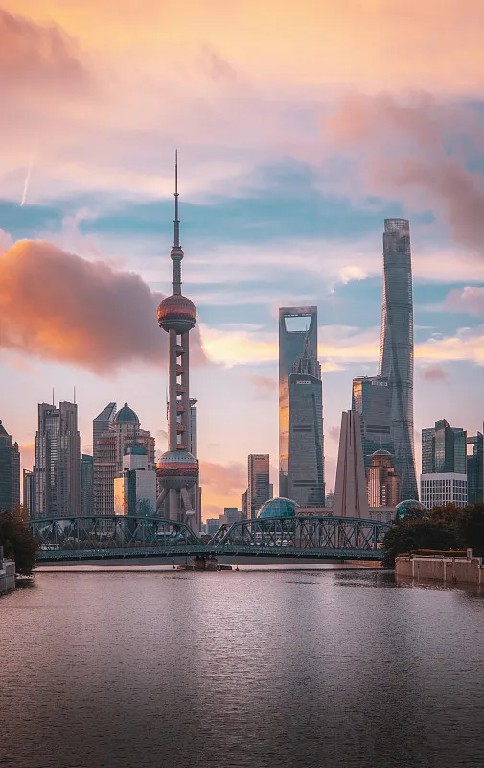Oriental: (155, 146, 201, 537)
